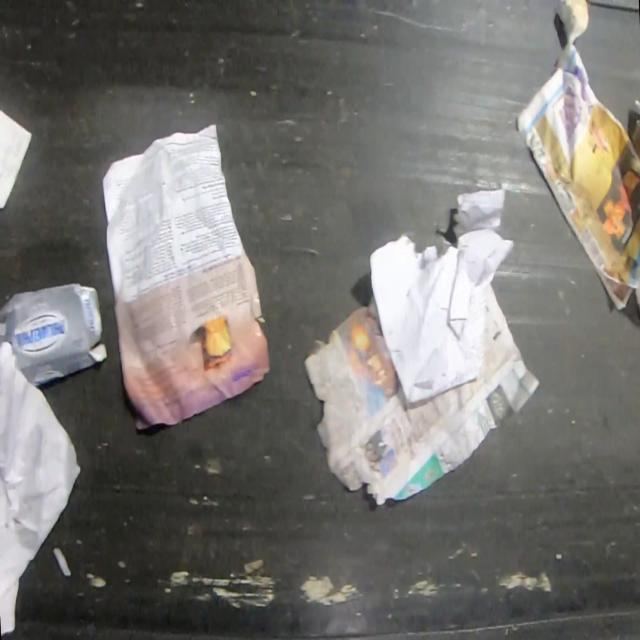cardboard: (0, 281, 107, 385)
